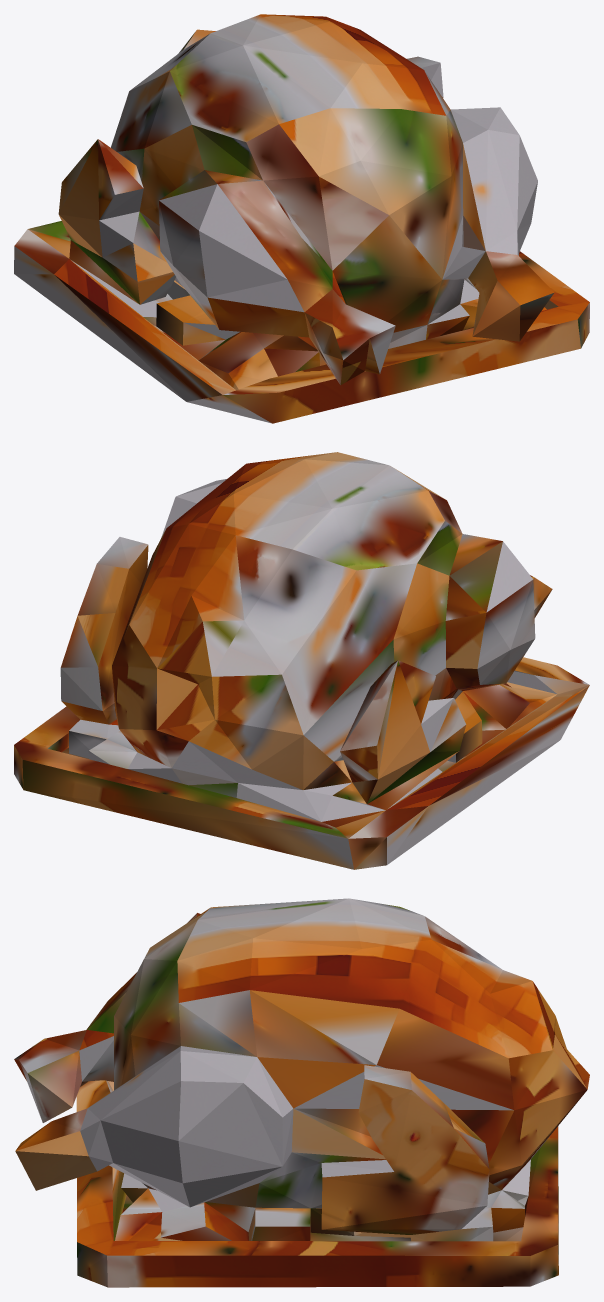
File: roast_chicken.obj
The picture shows the model from 3 angles, top to bottom: view 1: azimuth 30°, elevation 25°; view 2: azimuth 150°, elevation 25°; view 3: azimuth 270°, elevation 25°; orthographic projection. The views are drawn at different scales.
Parts seen in each view (by area): view 1: texture_pbr_v128; view 2: texture_pbr_v128; view 3: texture_pbr_v128.
Part boxes in pixels (bbox=[...]): texture_pbr_v128: bbox=[14, 14, 589, 423]; texture_pbr_v128: bbox=[14, 452, 589, 869]; texture_pbr_v128: bbox=[14, 898, 589, 1287].
Size of the model in its own units: 0.7562 by 0.5002 by 0.9637.
